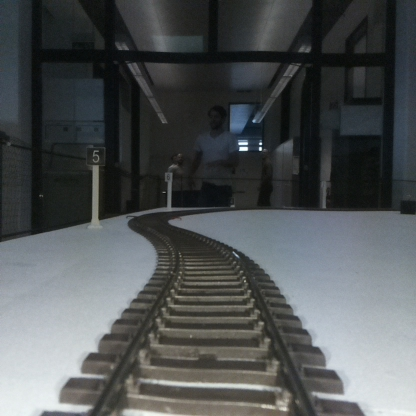black-info-5: (86, 146, 105, 227)
white-info-6: (165, 171, 172, 209)
